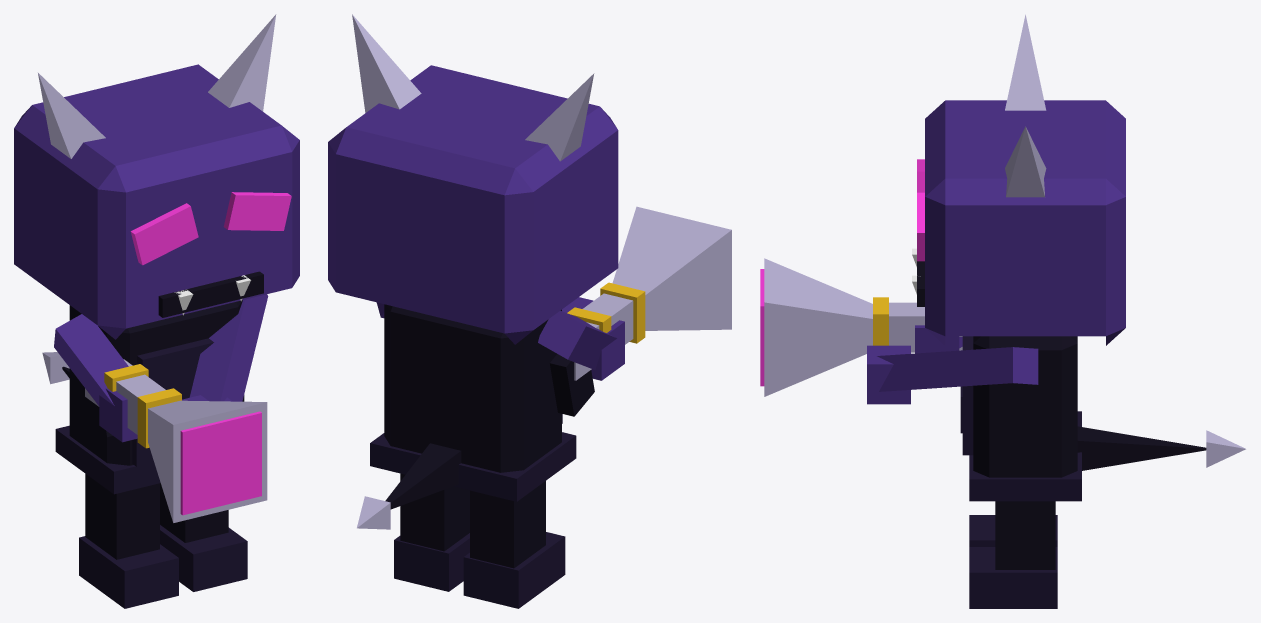
File: shotgunner_r16.glb
The picture shows the model from 3 angles, left to right: view 1: azimuth 30°, elevation 25°; view 2: azimuth 150°, elevation 25°; view 3: azimuth 270°, elevation 25°; orthographic projection. The views are drawn at different scales.
Parts seen in each view (by area): view 1: shotgunner_r16_mesh; view 2: shotgunner_r16_mesh; view 3: shotgunner_r16_mesh.
Boxes of the visible parts, <box> form: shotgunner_r16_mesh: <box>14,14,299,608</box>; shotgunner_r16_mesh: <box>328,14,731,608</box>; shotgunner_r16_mesh: <box>760,14,1245,608</box>.
Bounding box in the file's own units: 0.7071 × 1.5 × 1.3.
Materials: 1 (1 with a texture image).
